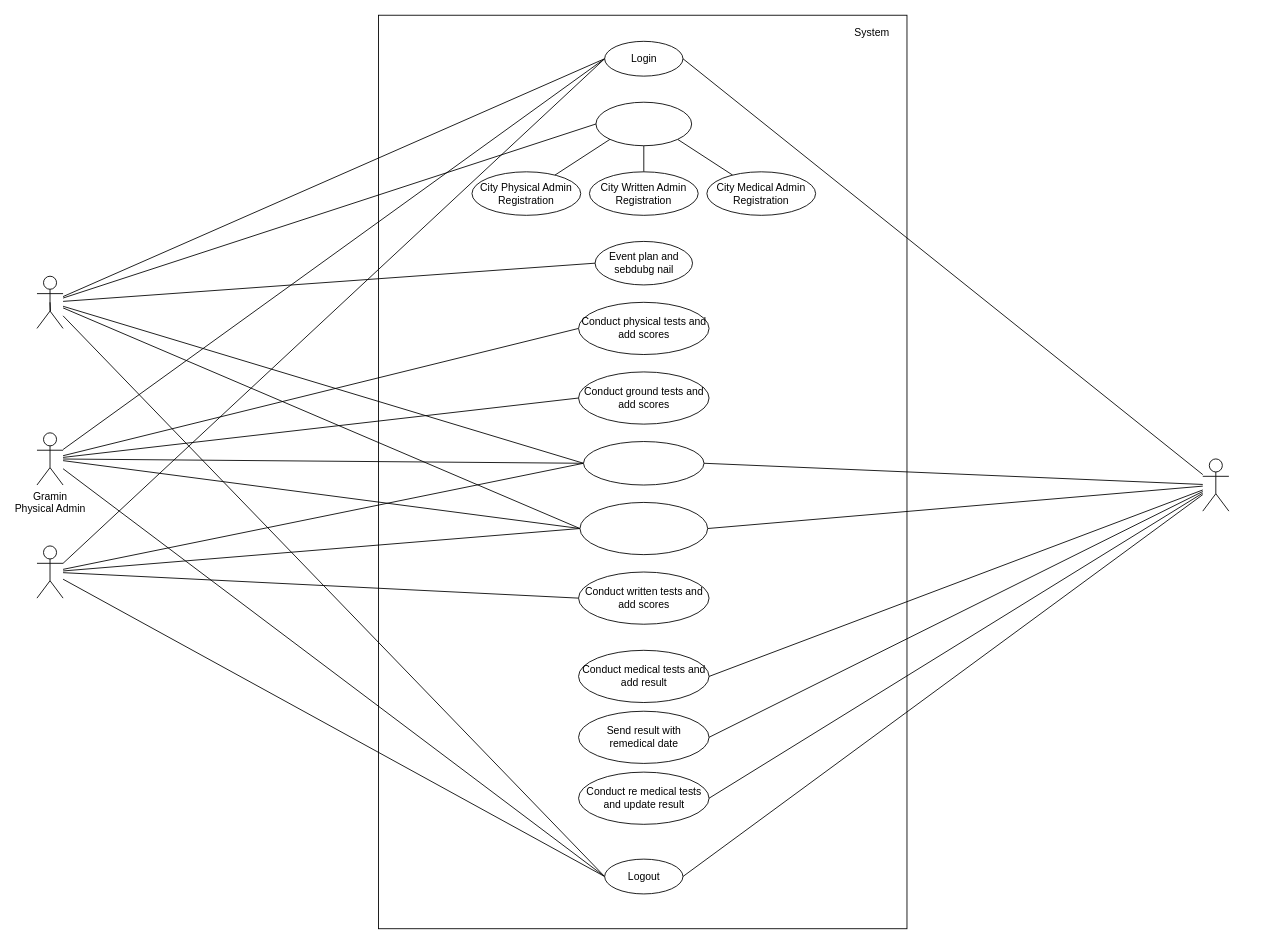
Image size: 1265x944. Some labels were removed from this diagram. The centre of each missing label's shape, as x and y in pixels:
"Check data (result data)" goes at point (643, 463).
"Gramin Admin" goes at point (49, 301).
"Gramin Medical Admin" goes at point (1215, 484).
"Gramin Written Admin" goes at point (49, 571).
"Sub admin Registration" goes at point (643, 123).
"Submit data to immidiate super admin" goes at point (643, 528).
